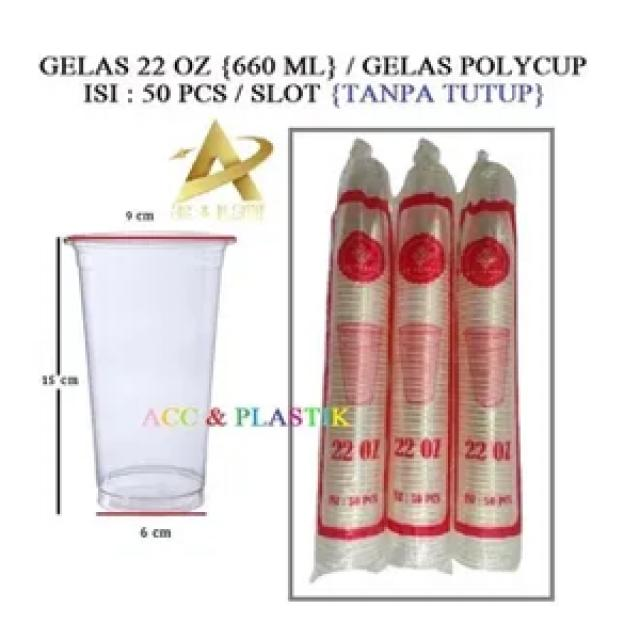plastic cup: (64, 224, 239, 516)
